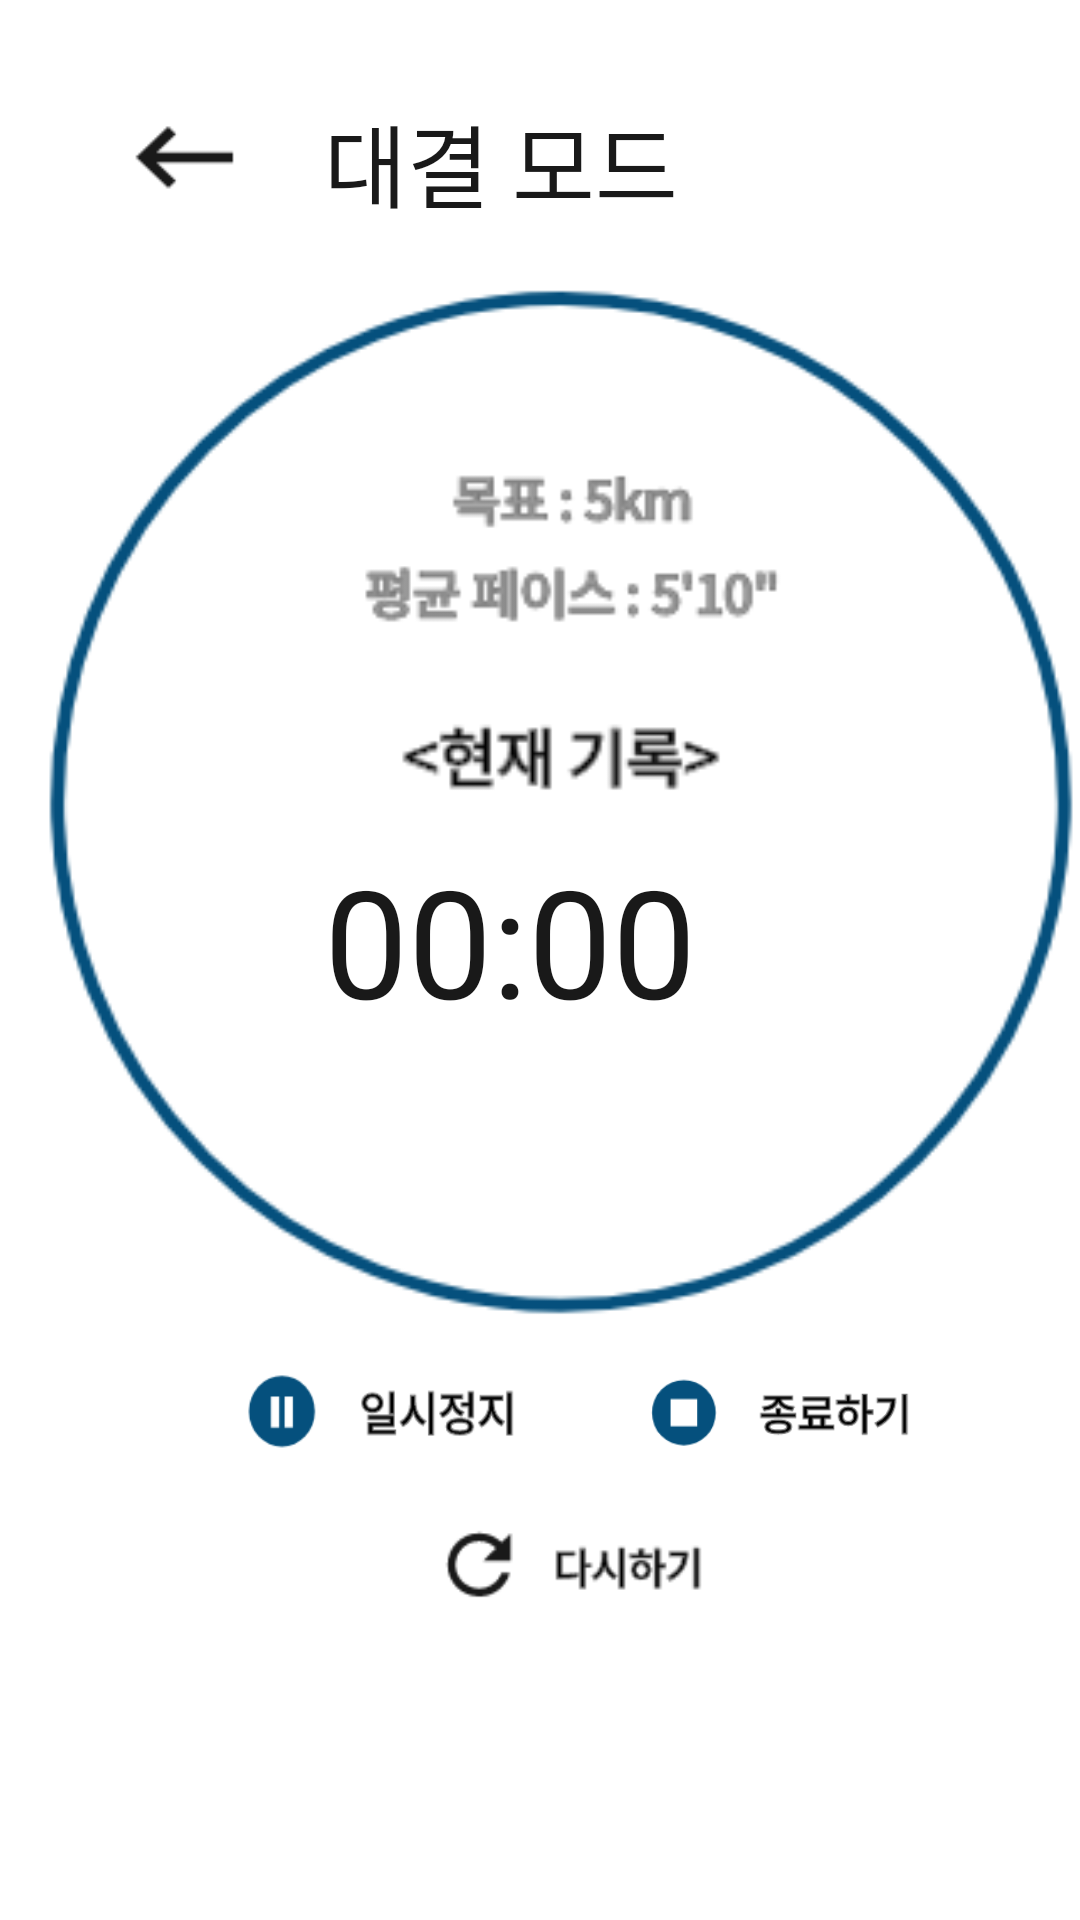

Icons on this 1080 × 1920 Android screen, each with the point to tap as (x,y):
pre: (184,157)
